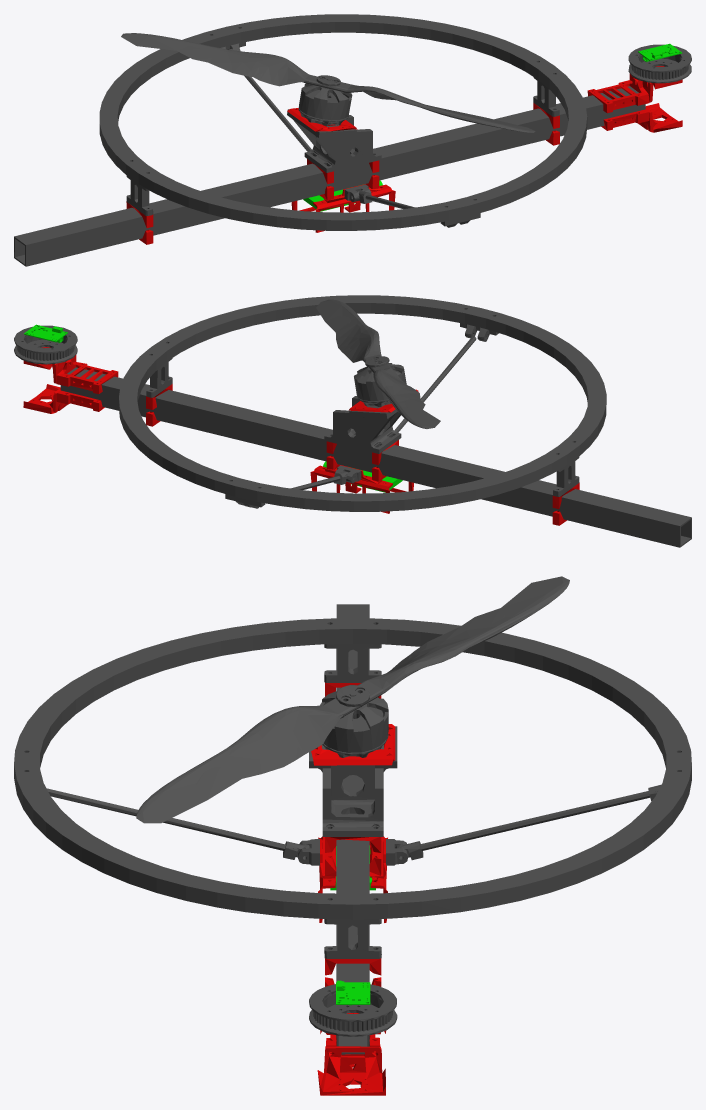
File: tilt_10deg_15inch_fix_joint_link3.dae
The picture shows the model from 3 angles, top to bottom: view 1: azimuth 30°, elevation 25°; view 2: azimuth 150°, elevation 25°; view 3: azimuth 270°, elevation 25°; orthographic projection. The views are drawn at different scales.
Visible parts, largest first — view 1: link3_tilt_fixed_joint_15inch_black, link3_tilt_fixed_joint_15inch_red, link3_green_part; view 2: link3_tilt_fixed_joint_15inch_black, link3_tilt_fixed_joint_15inch_red, link3_green_part; view 3: link3_tilt_fixed_joint_15inch_black, link3_tilt_fixed_joint_15inch_red, link3_green_part.
Boxes of the visible parts, x1=… form: link3_tilt_fixed_joint_15inch_black: x1=14, y1=14, x2=691, y2=266; link3_tilt_fixed_joint_15inch_red: x1=126, y1=66, x2=682, y2=244; link3_green_part: x1=303, y1=43, x2=682, y2=211; link3_tilt_fixed_joint_15inch_black: x1=14, y1=295, x2=691, y2=547; link3_tilt_fixed_joint_15inch_red: x1=23, y1=347, x2=579, y2=525; link3_green_part: x1=24, y1=324, x2=402, y2=492; link3_tilt_fixed_joint_15inch_black: x1=14, y1=576, x2=691, y2=1054; link3_tilt_fixed_joint_15inch_red: x1=311, y1=682, x2=395, y2=1095; link3_green_part: x1=330, y1=845, x2=375, y2=1005.
Size of the model in its own units: 0.6321 by 0.4 by 0.1437.
